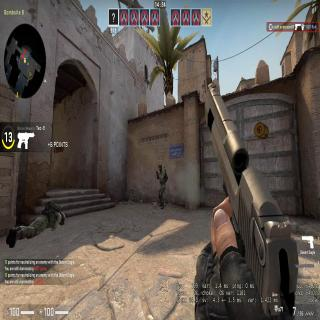CT-Body: (156, 162, 167, 205)
CT-Head: (158, 163, 162, 170)
